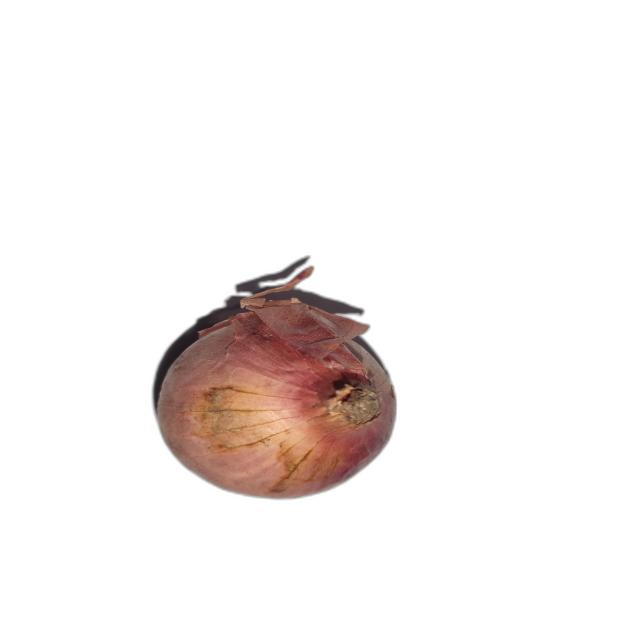onion: (156, 265, 398, 501)
